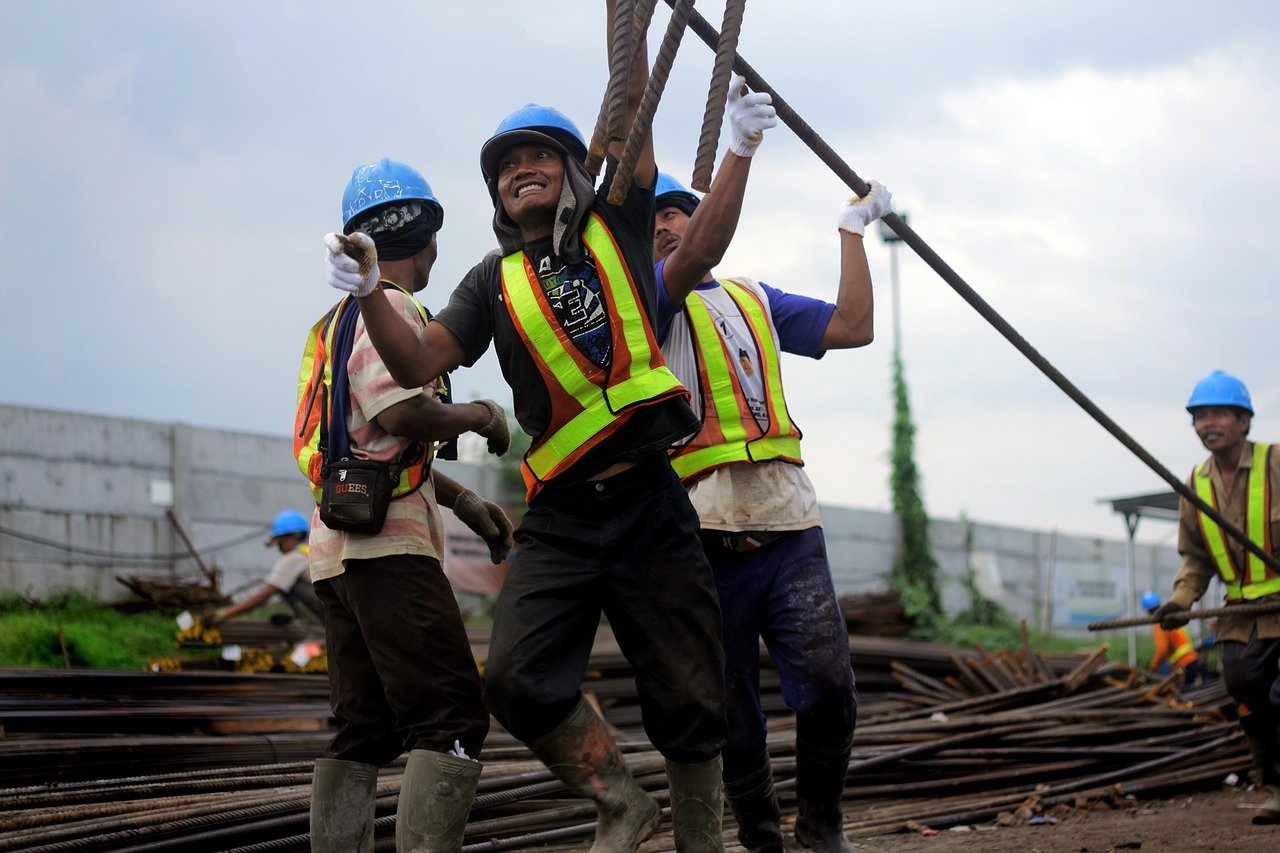Hard Hat: (471, 95, 594, 225), (337, 157, 447, 292), (646, 165, 713, 274), (1182, 367, 1257, 452), (265, 511, 307, 558), (1140, 590, 1160, 614)
Person: (464, 106, 741, 853), (640, 70, 875, 853), (293, 166, 492, 853), (1161, 369, 1280, 832), (204, 510, 325, 660), (1136, 586, 1197, 685)
Vest: (477, 148, 697, 492), (293, 219, 453, 506), (651, 207, 810, 474), (1171, 409, 1279, 600), (1147, 605, 1195, 670)
